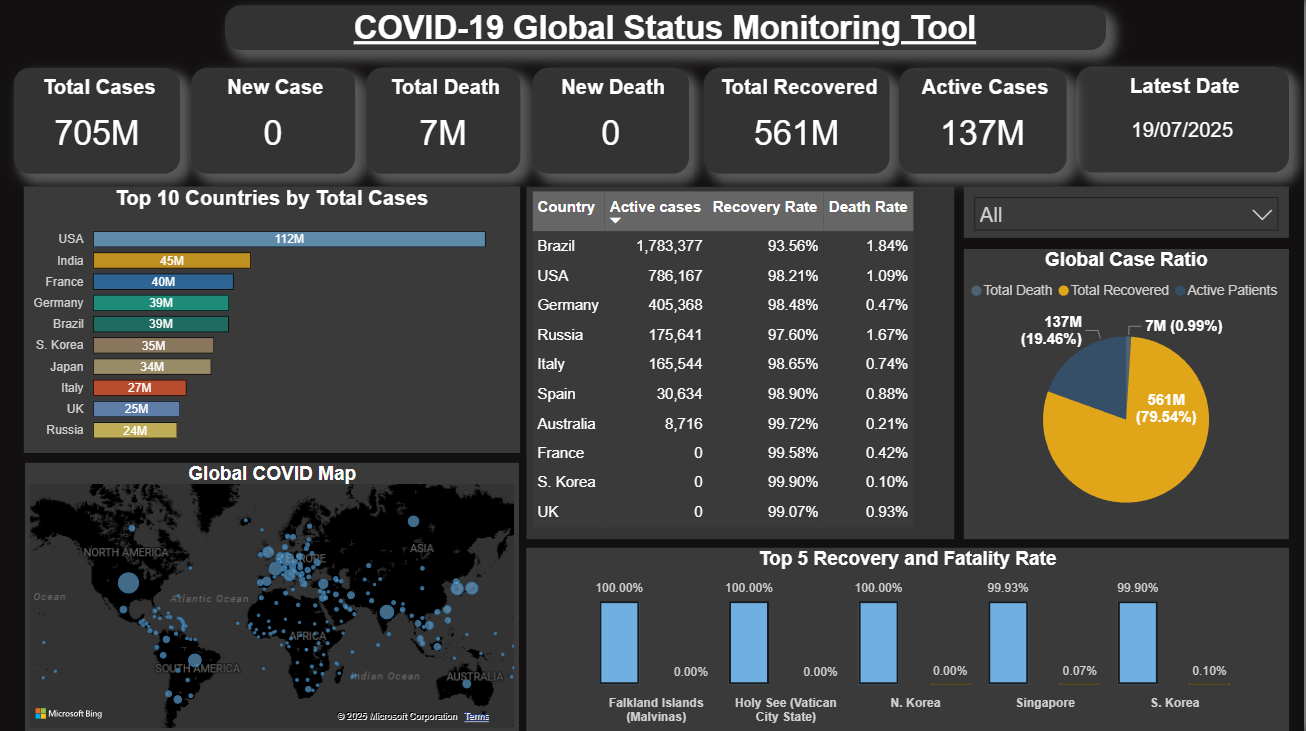

The dashboard page shown, as its layout file describes it:
{"tool":"powerbi","page":{"name":"Page 1","canvas":[1280,720],"ordinal":0},"visuals":[{"type":"card","title":"Total Cases","fields":{"Values":["Covid_data.Total Cases"]},"box":[13.7,67.2,163.3,104.3],"z":0},{"type":"card","title":"New Case","fields":{"Values":["Covid_data.Latest Cases"]},"box":[188,67.2,160.5,104.3],"z":1000},{"type":"card","title":"Total Death","fields":{"Values":["Covid_data.Total Death"]},"box":[359.5,67.2,150.9,104.3],"z":2000},{"type":"card","title":"New Death","fields":{"Values":["Sum(Covid_data.New Deaths)"]},"box":[522.8,67.2,153.7,104.3],"z":3000},{"type":"card","title":"Total Recovered","fields":{"Values":["Covid_data.Total Recovered"]},"box":[690.2,67.2,182.5,104.3],"z":4000},{"type":"card","title":"Latest Date","fields":{"Values":["Covid_data.Latest Date"]},"box":[1056.6,65.9,208.6,104.3],"z":5000},{"type":"card","title":"Active Cases","fields":{"Values":["Covid_data.Active cases"]},"box":[882.3,67.2,164.7,104.3],"z":6000},{"type":"barChart","title":"Top 10 Countries by Total Cases","fields":{"Category":["Covid_data.country"],"Series":["Covid_data.country"],"Y":["Covid_data.Total Cases"]},"box":[23.3,184.1,487.1,261.4],"z":7000},{"type":"tableEx","title":"Recovery vs Death by Country","fields":{"Values":["Covid_data.country","Covid_data.Active cases","Sum(Covid_data.RecoveryRate)","Sum(Covid_data.DeathRate)"]},"box":[516.2,183.8,420,346.2],"z":8000},{"type":"map","title":"Global COVID Map","fields":{"Category":["Covid_data.country"],"Size":["Covid_data.Total Cases"]},"box":[24.7,455.6,485.2,265.4],"z":9000},{"type":"clusteredColumnChart","title":"Top 5 Recovery and Fatality Rate","fields":{"Category":["Covid_data.country"],"Y":["Divide(Sum(Covid_data.RecoveryRate), ScopedEval(Sum(Covid_data.RecoveryRate), []))","Sum(Covid_data.DeathRate)"]},"box":[516.2,538.8,748.8,181.2],"z":10000},{"type":"pieChart","title":"Global Case Ratio","fields":{"Y":["Covid_data.Total Death","Covid_data.Total Recovered","Sum(Covid_data.active)"]},"box":[946,245.4,319,284.7],"z":11000},{"type":"shape","box":[221.2,6.2,865,43.8],"z":12000},{"type":"textbox","box":[257.5,6.2,790,50],"z":13000},{"type":"slicer","fields":{"Values":["Covid_data.country"]},"box":[946,184.1,319,50.3],"z":14000}]}

Visuals, with their boxes in screenshot pixels (x1, y1, x2, y2), scaled from the page's 1280x720 canvas onto the 1306x731 screenshot:
"Total Cases" card: <region>14, 68, 181, 174</region>
"New Case" card: <region>192, 68, 356, 174</region>
"Total Death" card: <region>367, 68, 521, 174</region>
"New Death" card: <region>533, 68, 690, 174</region>
"Total Recovered" card: <region>704, 68, 890, 174</region>
"Latest Date" card: <region>1078, 67, 1291, 173</region>
"Active Cases" card: <region>900, 68, 1068, 174</region>
"Top 10 Countries by Total Cases" barChart: <region>24, 187, 521, 452</region>
"Recovery vs Death by Country" tableEx: <region>527, 187, 955, 538</region>
"Global COVID Map" map: <region>25, 463, 520, 730</region>
"Top 5 Recovery and Fatality Rate" clusteredColumnChart: <region>527, 547, 1291, 730</region>
"Global Case Ratio" pieChart: <region>965, 249, 1291, 538</region>
shape: <region>226, 6, 1108, 51</region>
textbox: <region>263, 6, 1069, 57</region>
slicer - Covid_data.country: <region>965, 187, 1291, 238</region>
